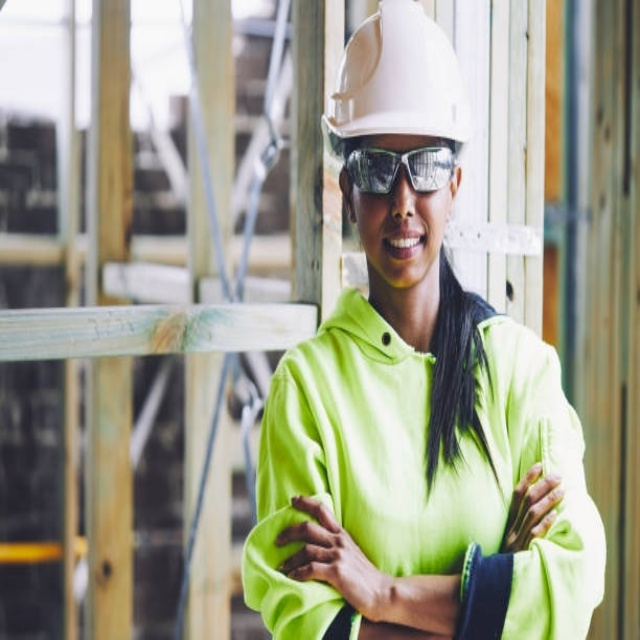Gafas: (344, 141, 456, 191)
Sin_guantes: (273, 491, 388, 620), (501, 459, 566, 555)
Sin_mascara: (376, 223, 431, 279)
